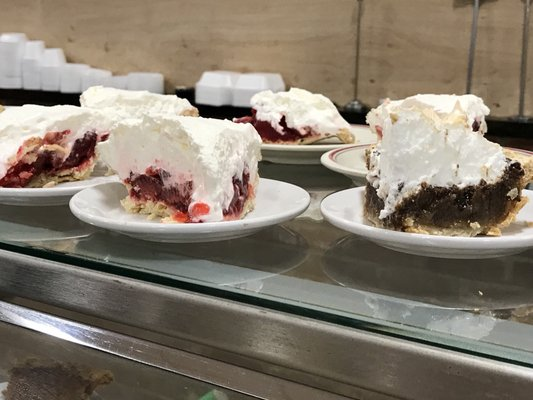soup: (0, 103, 112, 189)
